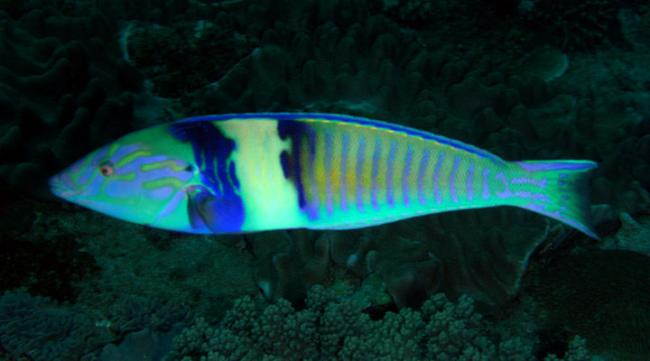fish: (48, 112, 601, 241)
